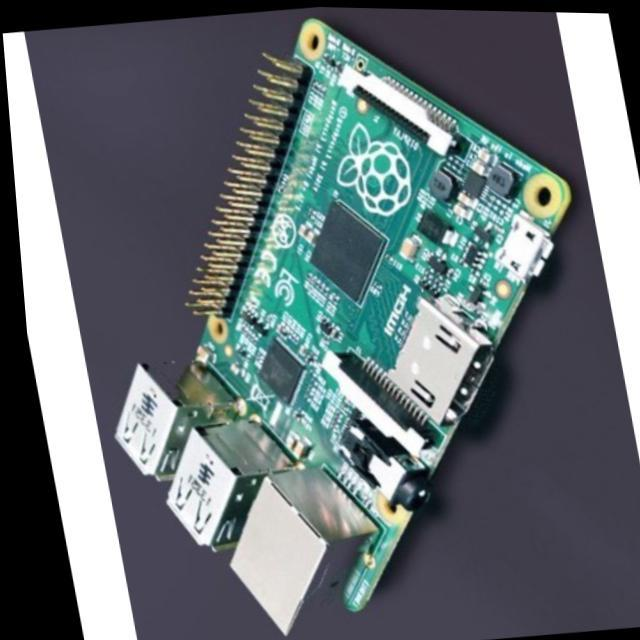Raspberry Pi 1 B-: (117, 19, 571, 634)
